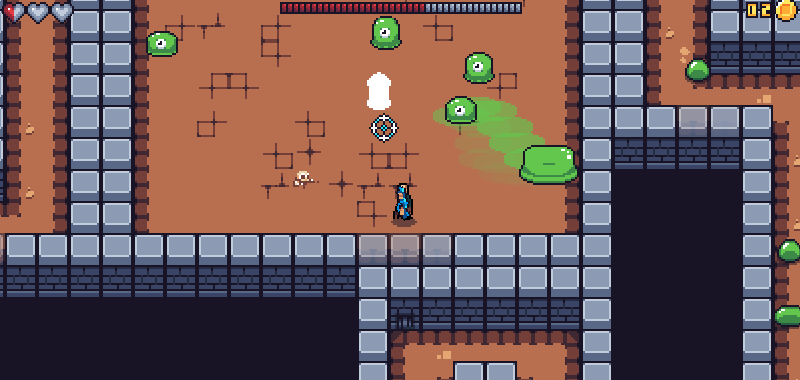enemy_slug: (772, 305, 799, 330), (684, 59, 712, 83), (776, 239, 800, 264)
enemy_slug_big: (369, 16, 403, 50), (462, 52, 496, 86), (146, 30, 179, 59), (444, 96, 478, 124)
